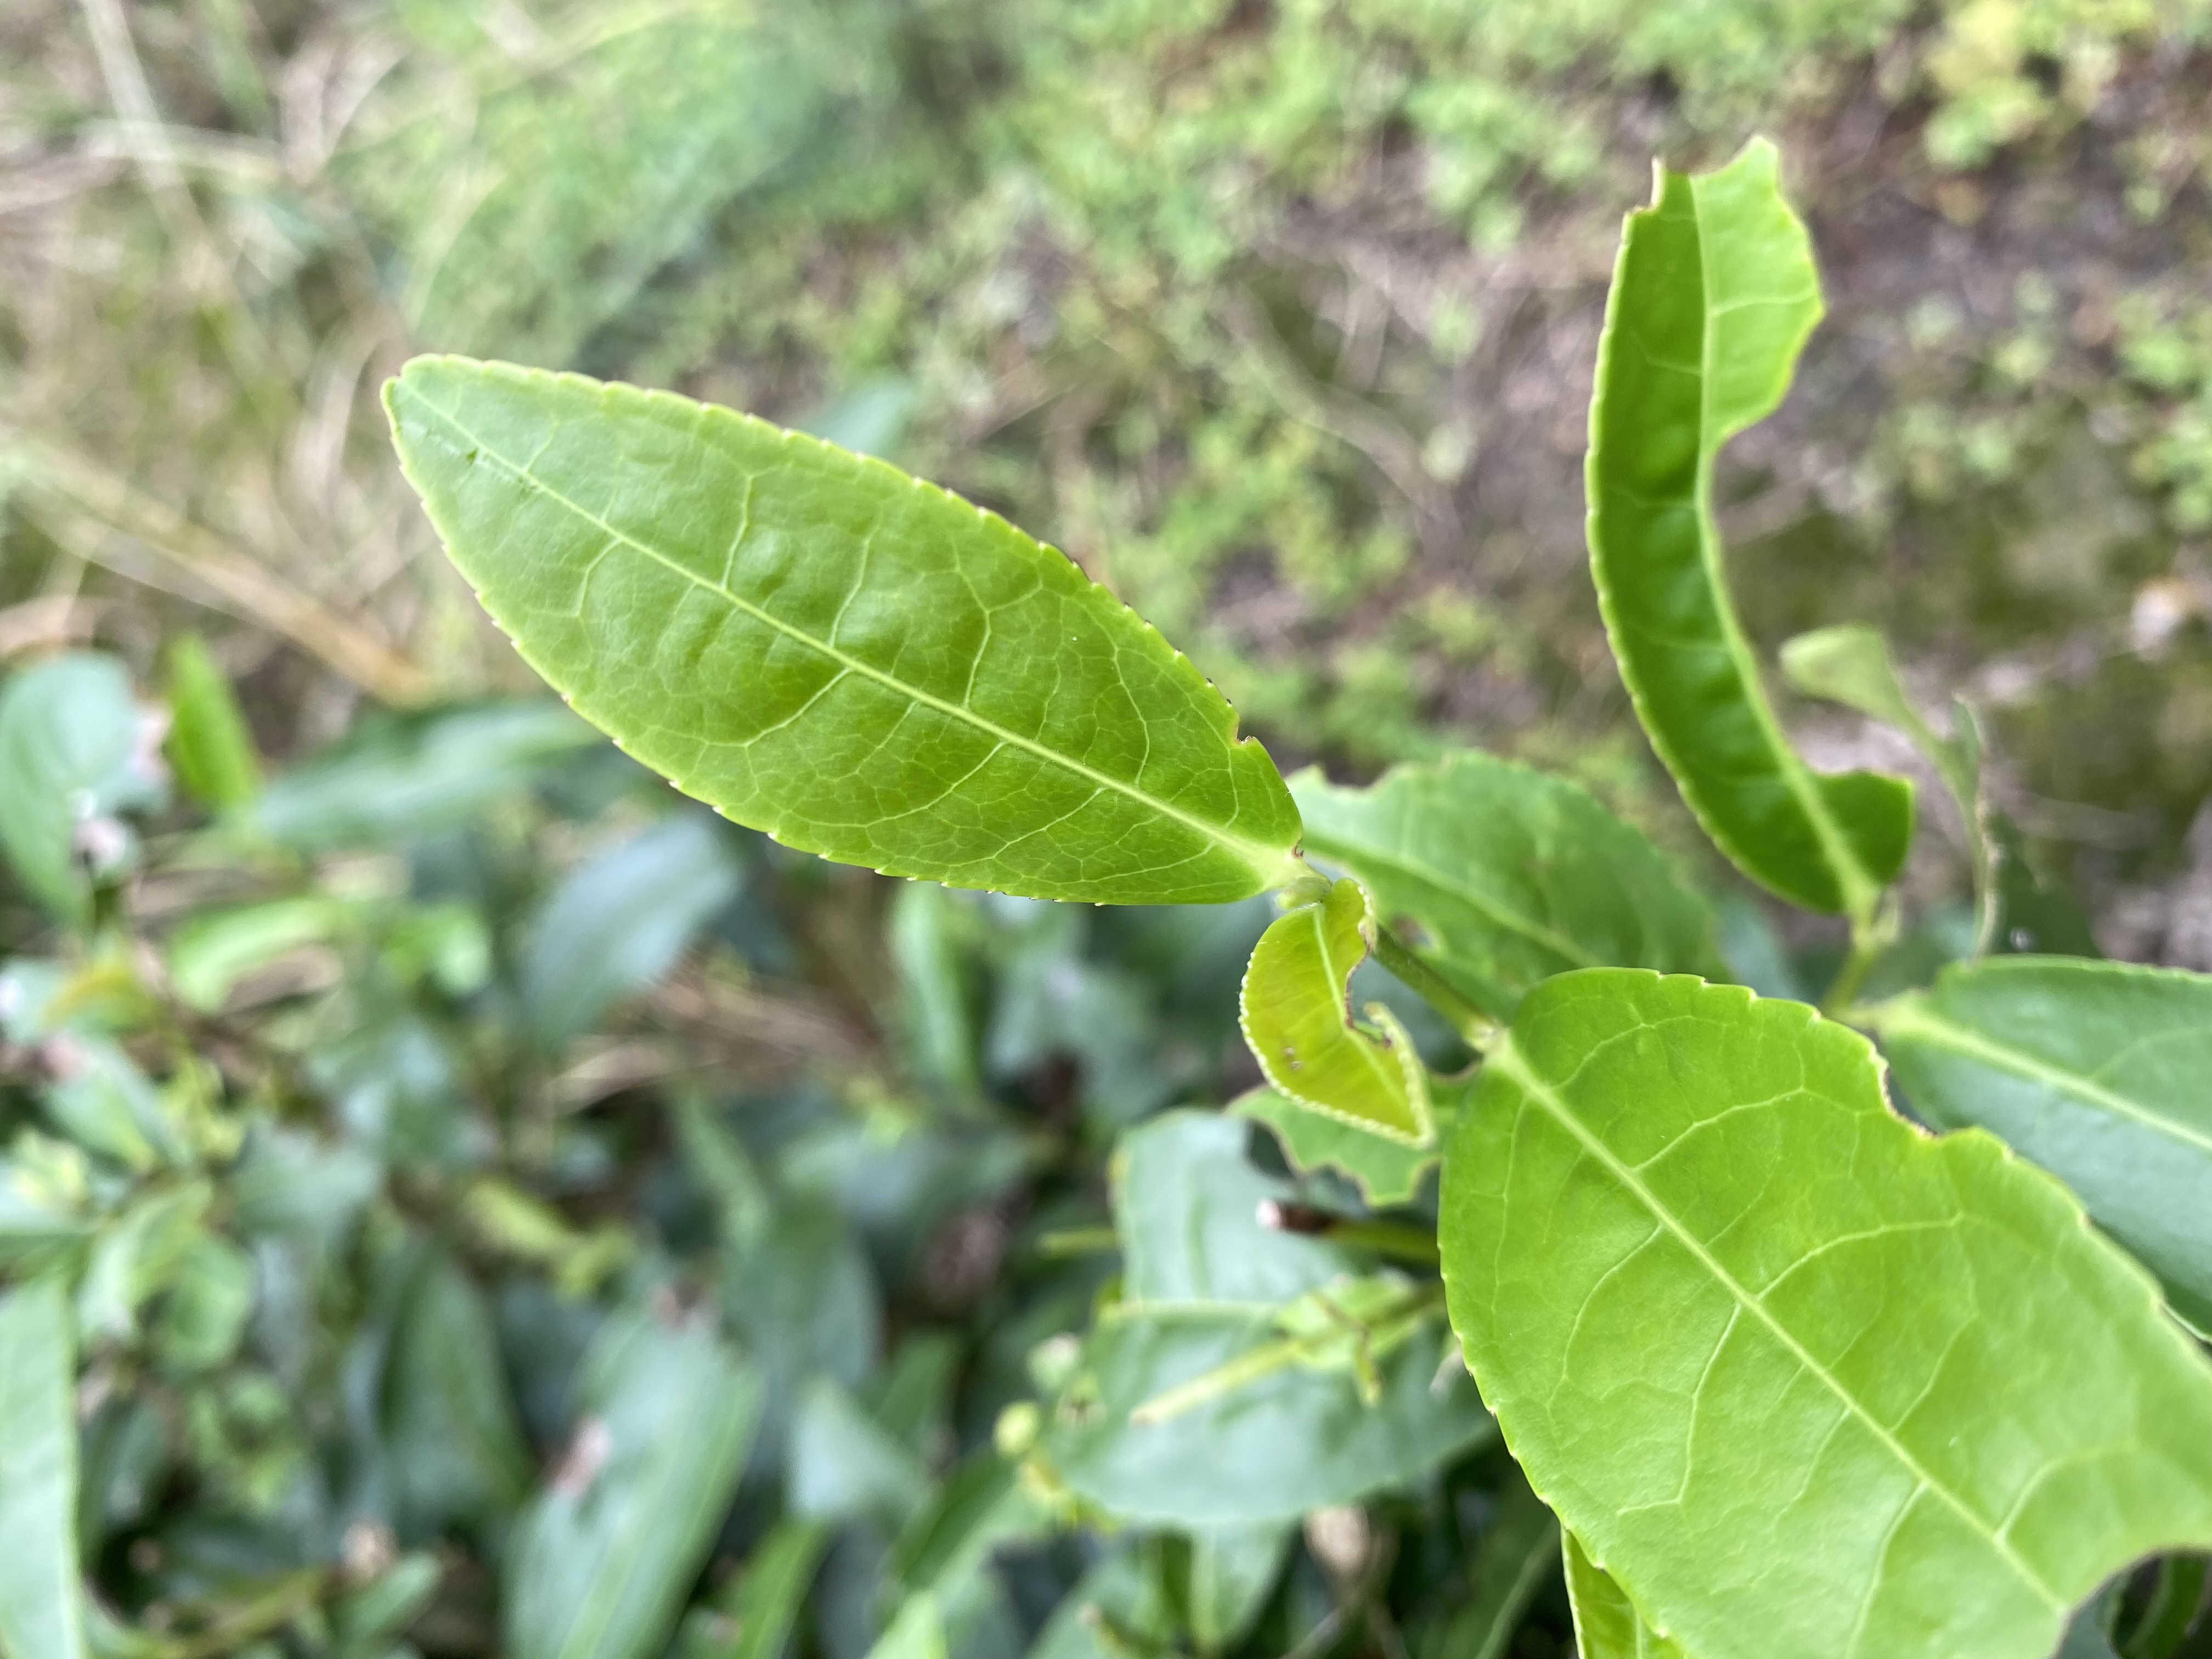chihuo_high: (1437, 969, 2210, 1656), (1581, 132, 1918, 917)
chihuo_low: (1240, 878, 1433, 1147)
healthy: (381, 354, 1306, 911)
